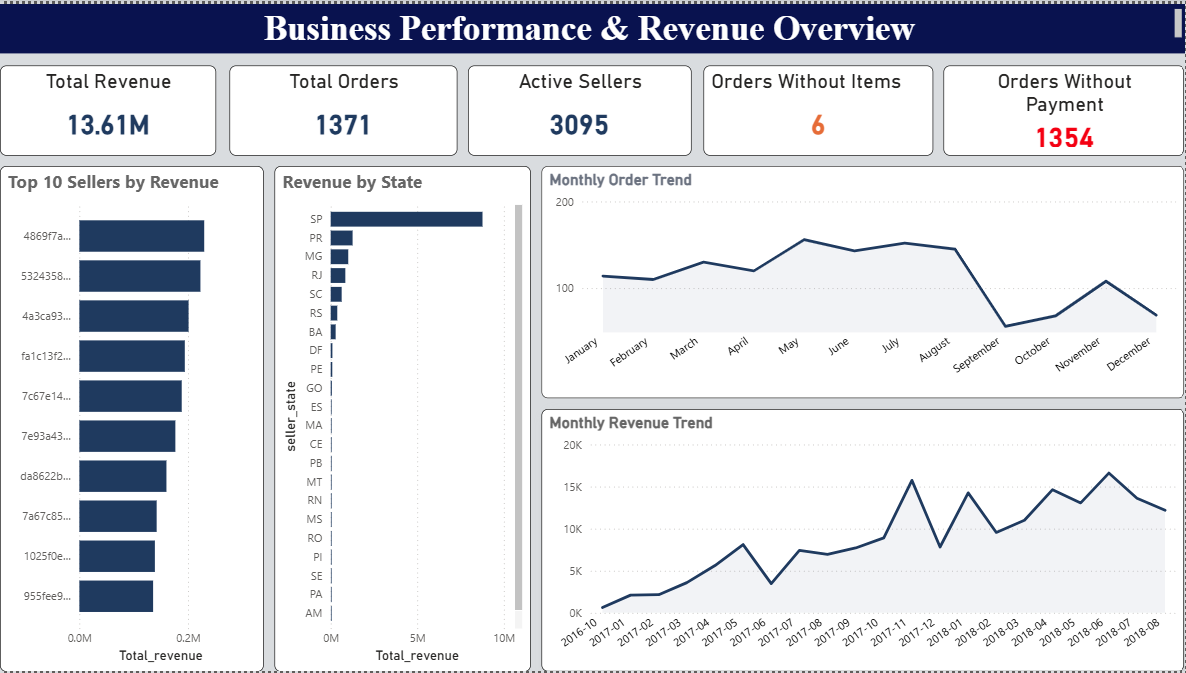

This screenshot's page, from the dashboard's own definition file:
{"tool":"powerbi","page":{"name":"Page 1","canvas":[1280,720],"ordinal":0},"visuals":[{"type":"textbox","box":[0,0,1280.8,53.4],"z":0},{"type":"card","title":"Total Revenue","fields":{"Values":["Sum(partner_reporting v_revenue_per_seller.total_revenue)"]},"box":[0,66.4,233.2,97.2],"z":1000},{"type":"barChart","title":"Top 10 Sellers by Revenue","fields":{"Y":["Sum(partner_reporting v_revenue_per_seller.total_revenue)"],"Category":["partner_reporting v_revenue_per_seller.seller_id"]},"box":[0,174.9,285,545.7],"z":2000},{"type":"lineChart","title":"Monthly Revenue Trend","fields":{"Category":["partner_reporting v_monthly_revenue.order_month"],"Y":["Sum(partner_reporting v_monthly_revenue.monthly_revenue)"]},"box":[584.5,437.2,694.6,283.4],"z":3000},{"type":"card","title":"Total Orders","fields":{"Values":["CountNonNull(partner_reporting v_orders_clean.order_id)"]},"box":[247.7,66.4,246.1,97.2],"z":4000},{"type":"card","title":"Active Sellers","fields":{"Values":["Count(partner_reporting v_revenue_per_seller.seller_id)"]},"box":[505.2,66.4,241.3,97.2],"z":5000},{"type":"card","title":"Orders Without Items","fields":{"Values":["CountNonNull(partner_reporting v_orders_without_items.order_id)"]},"box":[759.4,66.4,247.7,97.2],"z":6000},{"type":"card","title":"Orders Without Payment","fields":{"Values":["CountNonNull(partner_reporting v_orders_without_payment.order_id)"]},"box":[1018.5,66.4,260.7,97.2],"z":7000},{"type":"lineChart","title":"Monthly Order Trend","fields":{"Category":["partner_reporting v_orders_clean.order_purchase_datetime.Variation.Date Hierarchy.Month"],"Y":["CountNonNull(partner_reporting v_orders_clean.order_id)"]},"box":[584.5,174.9,694.6,251],"z":8000},{"type":"barChart","title":"Revenue by State","fields":{"Y":["Sum(partner_reporting v_revenue_per_seller.total_revenue)"],"Category":["partner_reporting v_revenue_per_seller.seller_state"]},"box":[296.3,174.9,276.9,545.7],"z":9000}]}

Visuals, with their boxes in screenshot pixels (x1, y1, x2, y2), scaled from the page's 1280x720 canvas onto the 1186x673 screenshot:
textbox: select_region(0, 0, 1185, 50)
"Total Revenue" card: select_region(0, 62, 216, 153)
"Top 10 Sellers by Revenue" barChart: select_region(0, 163, 264, 672)
"Monthly Revenue Trend" lineChart: select_region(542, 409, 1185, 672)
"Total Orders" card: select_region(230, 62, 458, 153)
"Active Sellers" card: select_region(468, 62, 692, 153)
"Orders Without Items" card: select_region(704, 62, 933, 153)
"Orders Without Payment" card: select_region(944, 62, 1185, 153)
"Monthly Order Trend" lineChart: select_region(542, 163, 1185, 398)
"Revenue by State" barChart: select_region(275, 163, 531, 672)
